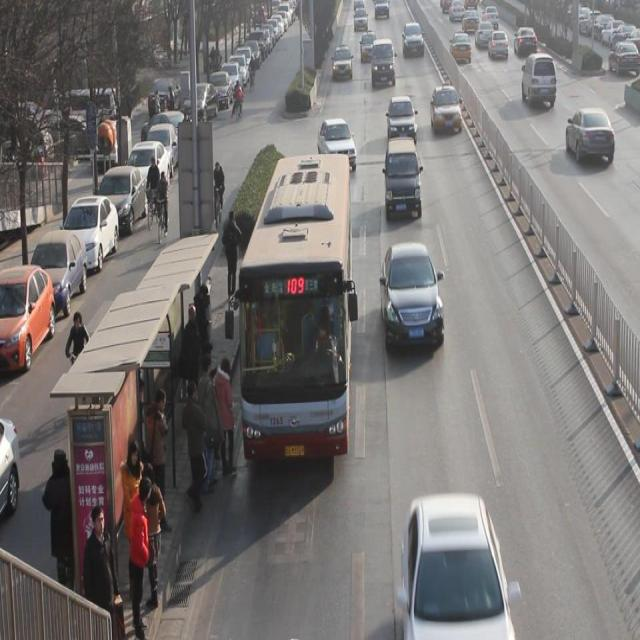car: (402, 493, 516, 640), (380, 242, 445, 349), (566, 106, 615, 164), (316, 117, 356, 171), (430, 82, 462, 134), (387, 96, 417, 141), (403, 22, 425, 59), (449, 31, 472, 63), (514, 26, 538, 56), (333, 44, 353, 80), (488, 29, 509, 60), (360, 31, 377, 64), (475, 20, 494, 49)
truck: (385, 137, 422, 217), (522, 52, 557, 108), (372, 38, 395, 85)
van: (238, 154, 351, 462)
